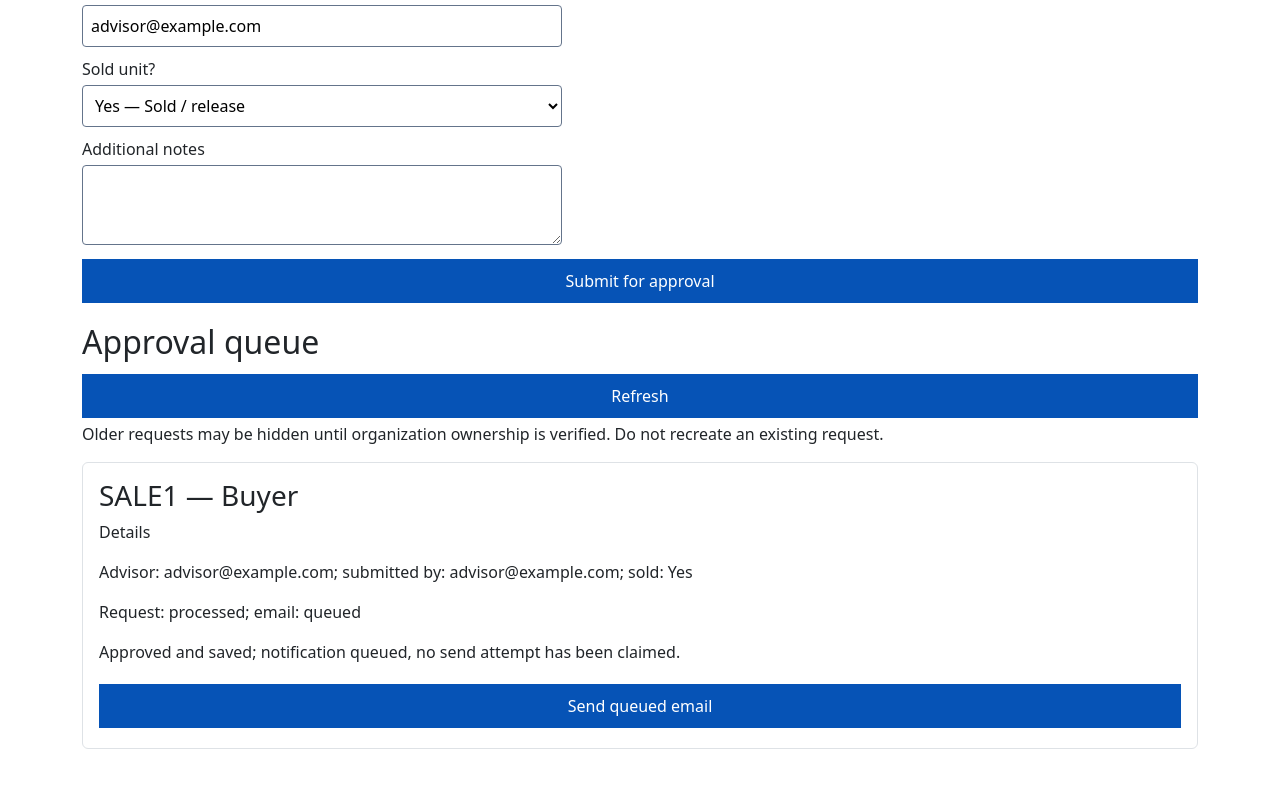
Test: send displays uncertain outcome and removes retry control
(page scrolled)
Click the button "Send queued email": (640, 706) [99,684,1181,728]
(page scrolled)
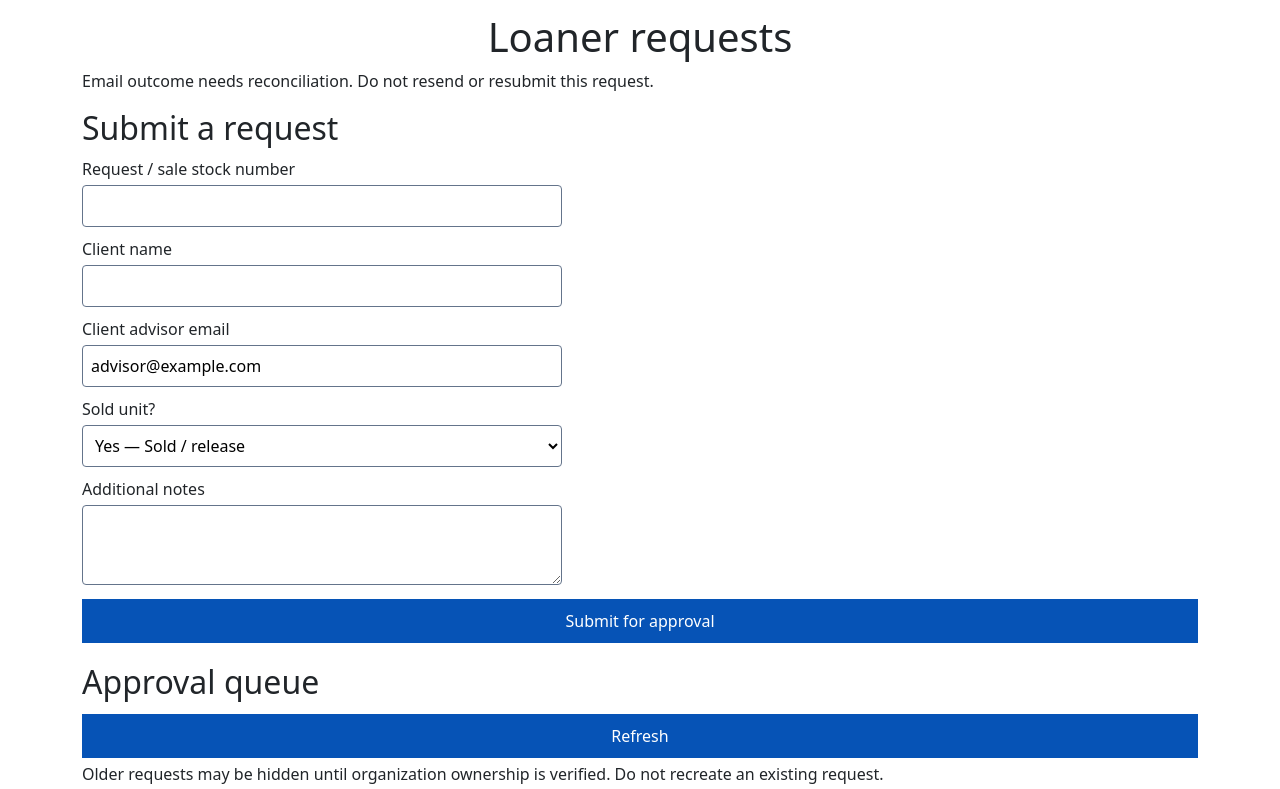
Check: the text "Email outcome needs reconciliation. Do not resend or resubmit this request." is shown, box [82,70,654,92]
Check: the button "Send queued email" is gone
